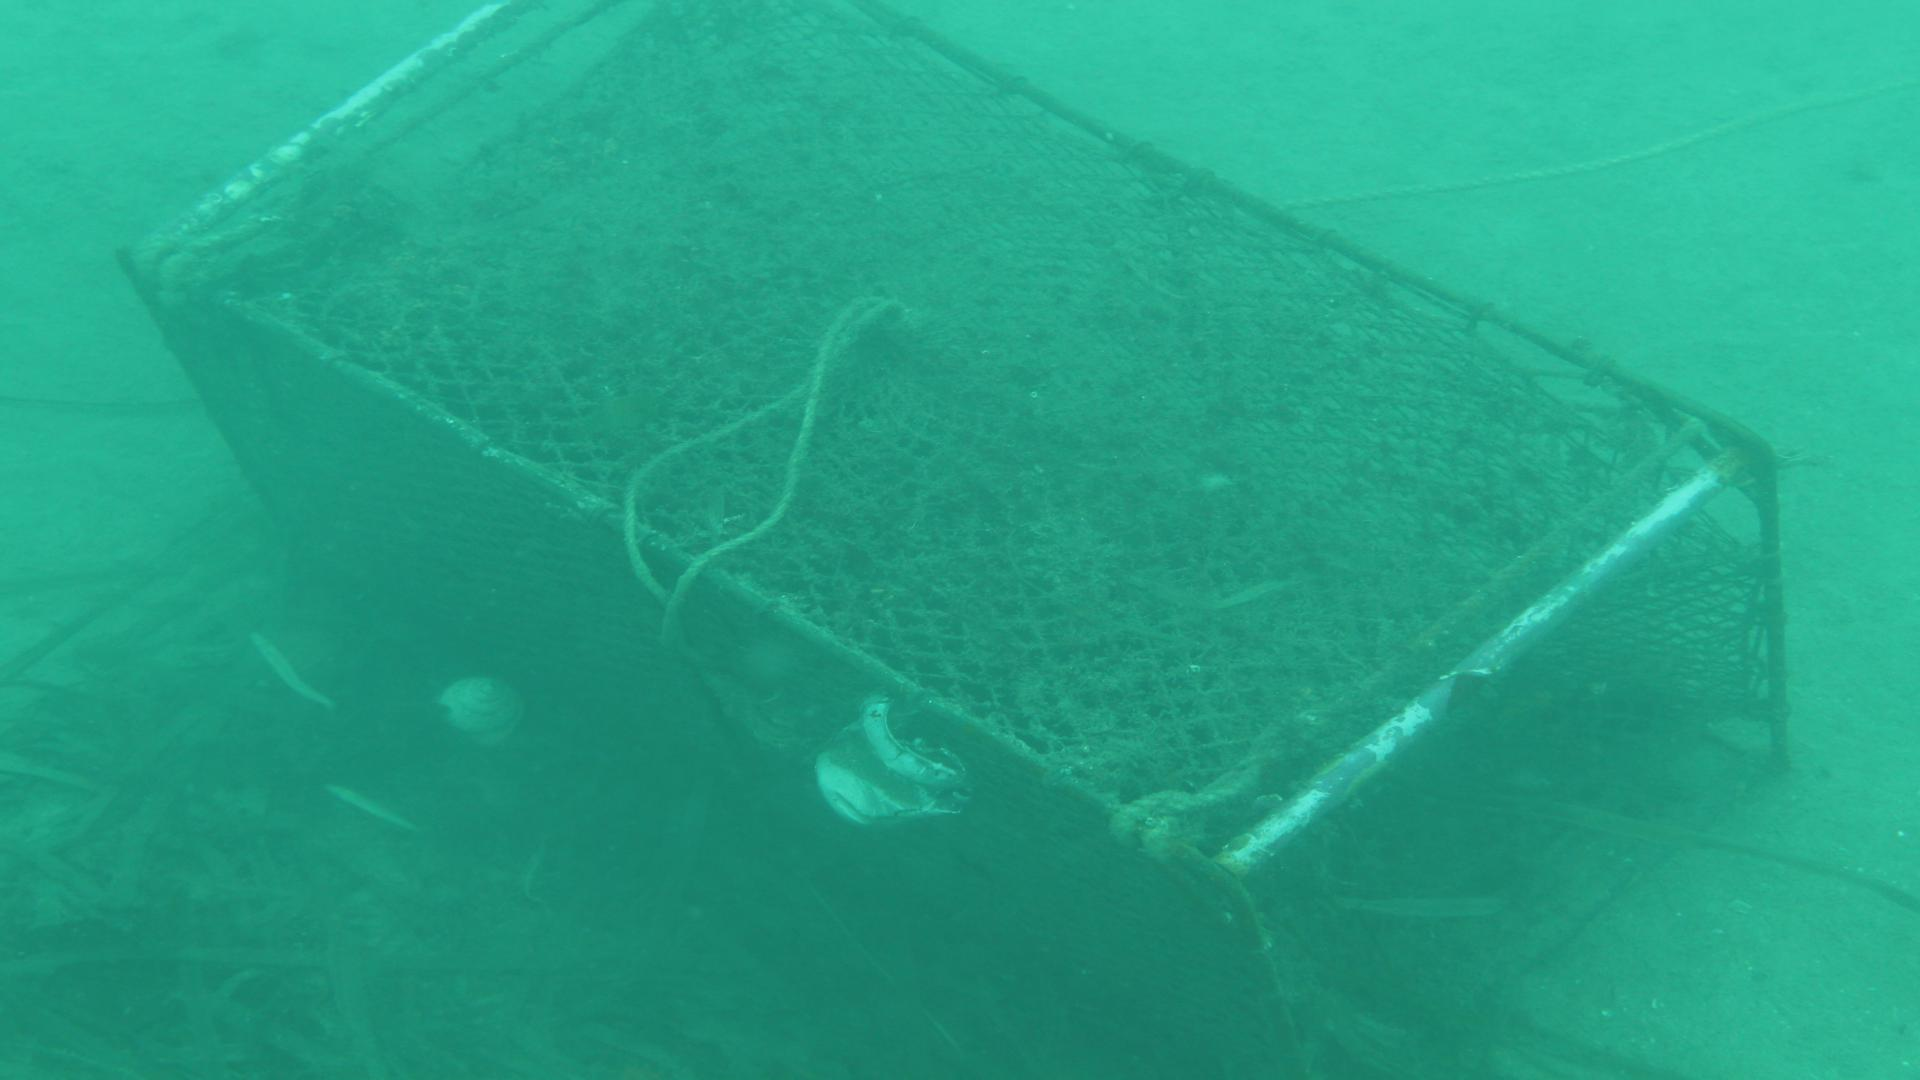rectangular fish trap: (105, 3, 1792, 1068)
